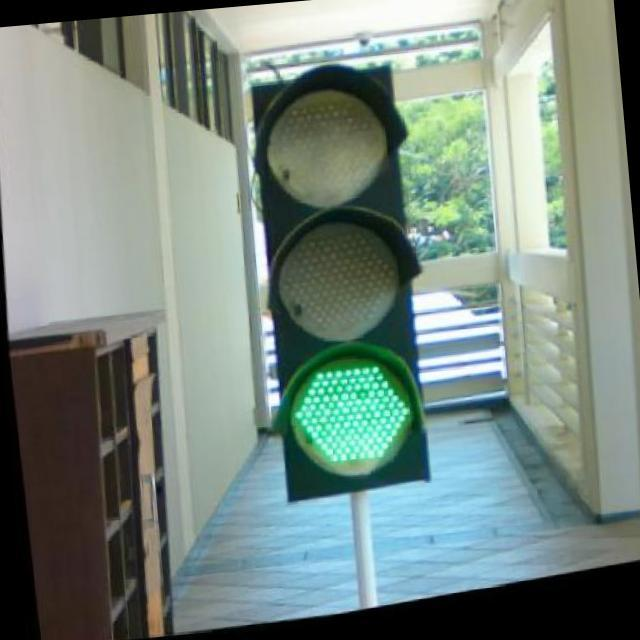green: (299, 351, 419, 477)
